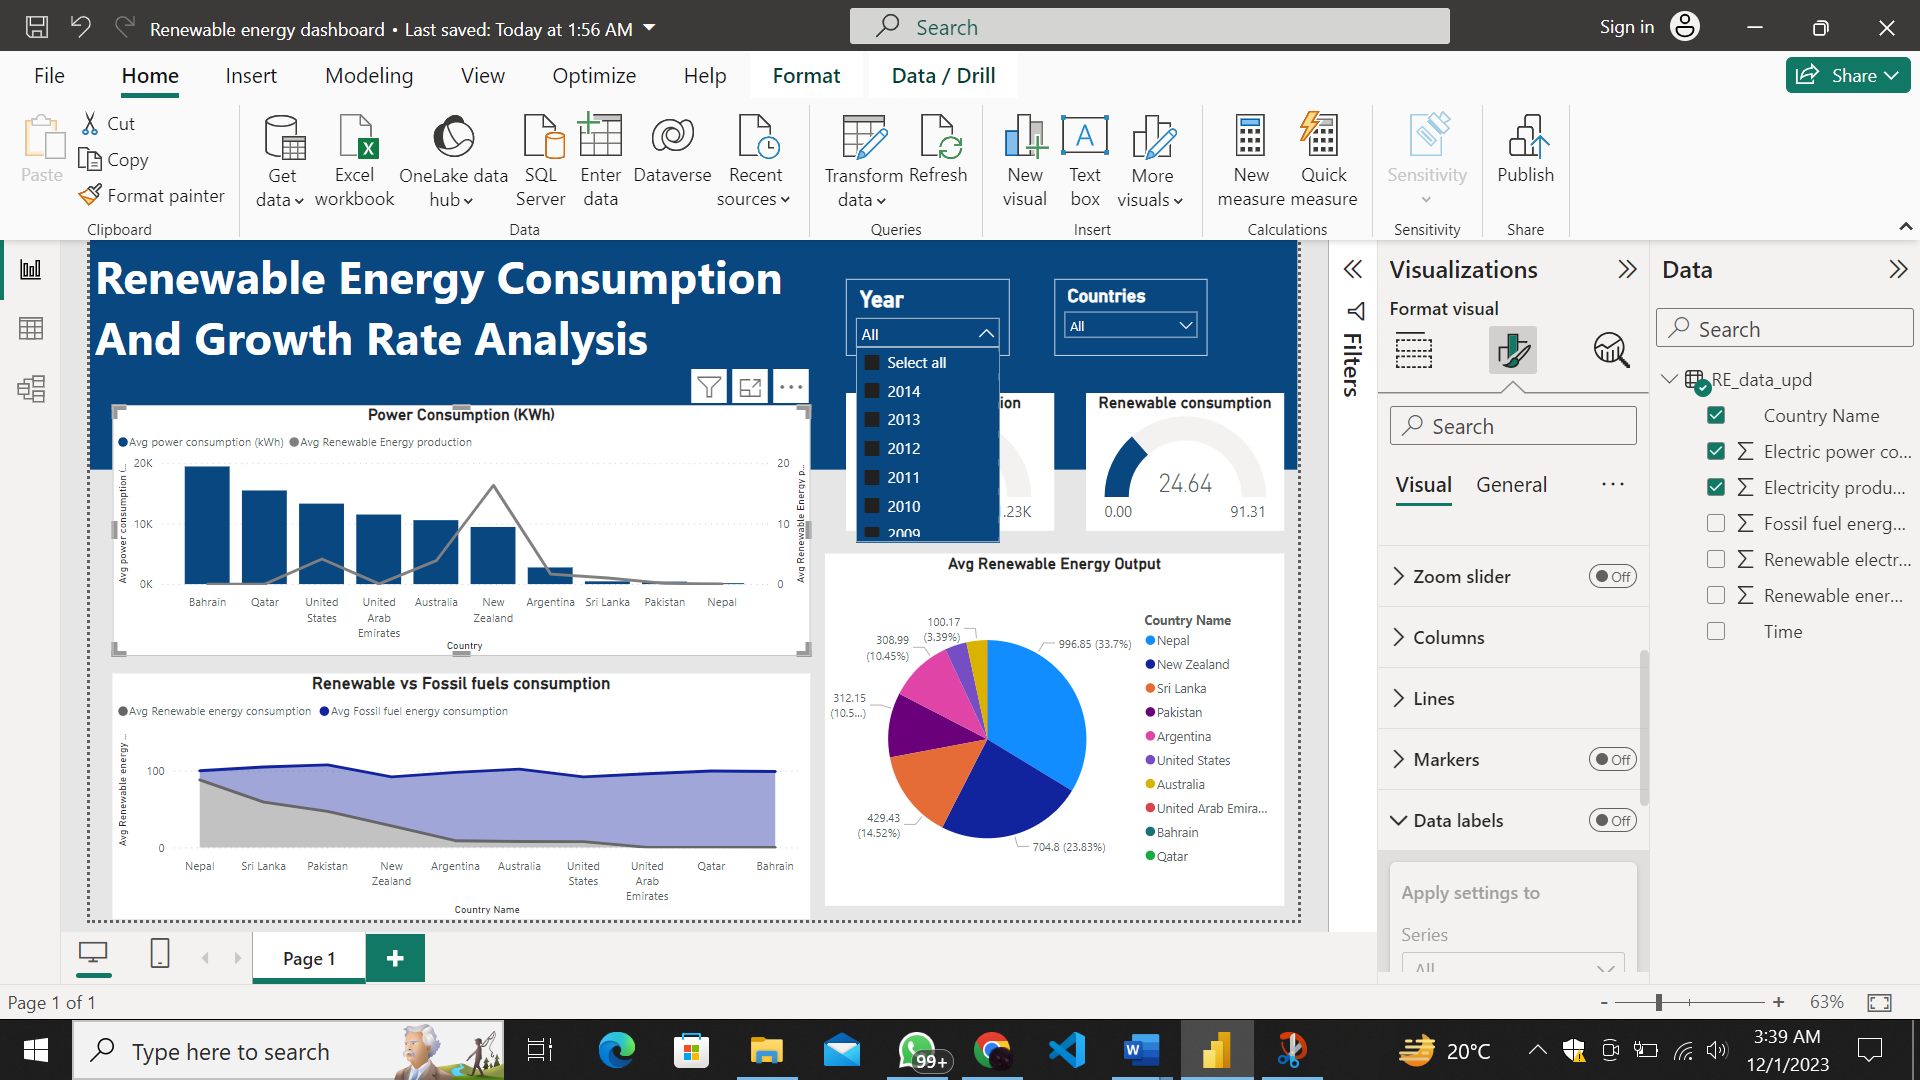

What the dashboard file says about the page in this screenshot:
{"tool":"powerbi","page":{"name":"Page 1","canvas":[1280,720],"ordinal":0},"visuals":[{"type":"textbox","box":[0,0,1279.5,243.2],"z":0},{"type":"lineClusteredColumnComboChart","title":"Power Consumption (KWh) ","fields":{"Category":["RE_data_upd.Country Name"],"Y":["Avg(RE_data_upd.Electric power consumption (kWh per capita))"],"Y2":["Avg(RE_data_upd.Electricity production from renewable sources, excluding hydroelectric (% of total))"]},"box":[23.8,174.8,739.1,265.4],"z":1000},{"type":"pieChart","title":"Avg Renewable Energy Output","fields":{"Category":["RE_data_upd.Country Name"],"Y":["Sum(RE_data_upd.Renewable electricity output (% of total electricity output))"]},"box":[778.8,332.2,486.4,373.5],"z":2000},{"type":"slicer","fields":{"Values":["RE_data_upd.Time"]},"box":[801.1,41.3,173.2,81.1],"z":3000},{"type":"slicer","fields":{"Values":["RE_data_upd.Country Name"]},"box":[1022,41.3,162.1,81.1],"z":4000},{"type":"stackedAreaChart","title":"Renewable vs Fossil fuels consumption ","fields":{"Category":["RE_data_upd.Country Name"],"Y":["Avg(RE_data_upd.Renewable energy consumption (% of total final energy consumption))","Avg(RE_data_upd.Fossil fuel energy consumption (% of total))"]},"box":[24,460,739,260],"z":5000},{"type":"gauge","title":"Renewable consumption","fields":{"Y":["Avg(RE_data_upd.Renewable energy consumption (% of total final energy consumption))"],"MinValue":["Min(RE_data_upd.Renewable energy consumption (% of total final energy consumption))"],"MaxValue":["Max(RE_data_upd.Renewable energy consumption (% of total final energy consumption))1"]},"box":[1055.4,162.1,209.8,146.2],"z":6000},{"type":"gauge","title":"Power Consumption","fields":{"Y":["Avg(RE_data_upd.Electric power consumption (kWh per capita))"],"MinValue":["Min(RE_data_upd.Electric power consumption (kWh per capita))"],"MaxValue":["Max(RE_data_upd.Electric power consumption (kWh per capita))"]},"box":[801.1,162.1,220.9,146.2],"z":6001}]}

Visuals, with their boxes on the page's 1280x720 design canvas (x1, y1, x2, y2). These are canvas units, not pixel positions in the 1920x1080 screenshot, which may show the page scaled, cropped or inside an application window:
textbox: (x1=0, y1=0, x2=1280, y2=243)
"Power Consumption (KWh) " lineClusteredColumnComboChart: (x1=24, y1=175, x2=763, y2=440)
"Avg Renewable Energy Output" pieChart: (x1=779, y1=332, x2=1265, y2=706)
slicer - RE_data_upd.Time: (x1=801, y1=41, x2=974, y2=122)
slicer - RE_data_upd.Country Name: (x1=1022, y1=41, x2=1184, y2=122)
"Renewable vs Fossil fuels consumption " stackedAreaChart: (x1=24, y1=460, x2=763, y2=720)
"Renewable consumption" gauge: (x1=1055, y1=162, x2=1265, y2=308)
"Power Consumption" gauge: (x1=801, y1=162, x2=1022, y2=308)
